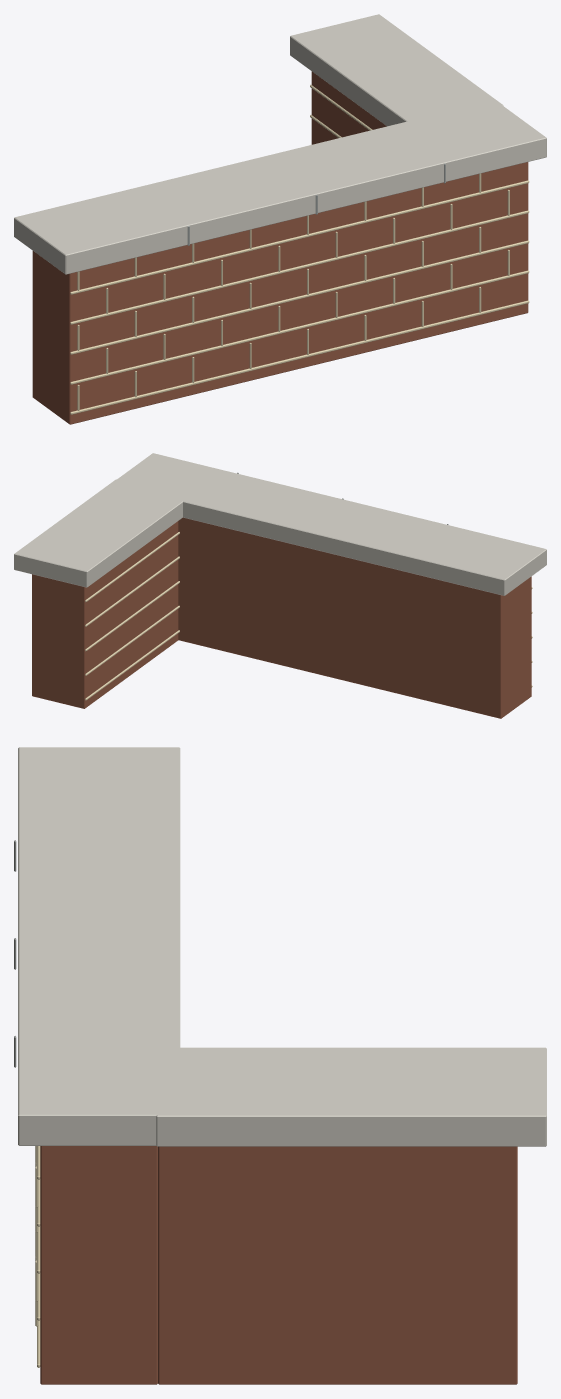
Rendered from b12_parapet_coping_corner.glb.
3 views of the same model, one above another, from view 1: azimuth 30°, elevation 25°; view 2: azimuth 150°, elevation 25°; view 3: azimuth 270°, elevation 25° (orthographic). The views are drawn at different scales.
Visible parts, largest first — view 1: b12_parapet_coping_corner; view 2: b12_parapet_coping_corner; view 3: b12_parapet_coping_corner.
Part boxes in pixels (x1,y1,x2,y2): b12_parapet_coping_corner: (14,14,546,424); b12_parapet_coping_corner: (14,453,546,718); b12_parapet_coping_corner: (14,747,546,1384).
Size of the model in its own units: 2.53 by 0.89 by 1.54.
